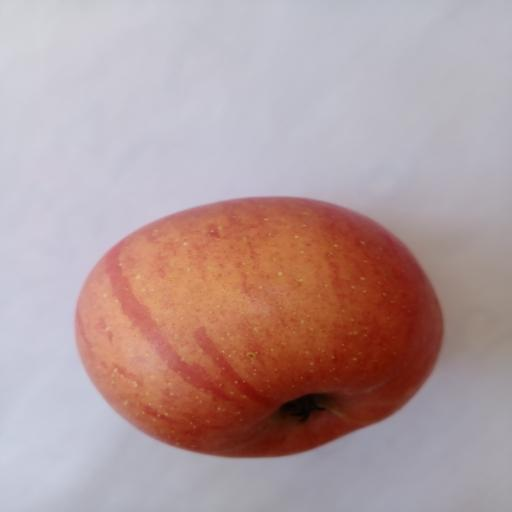apple-ripe: (67, 183, 453, 467)
